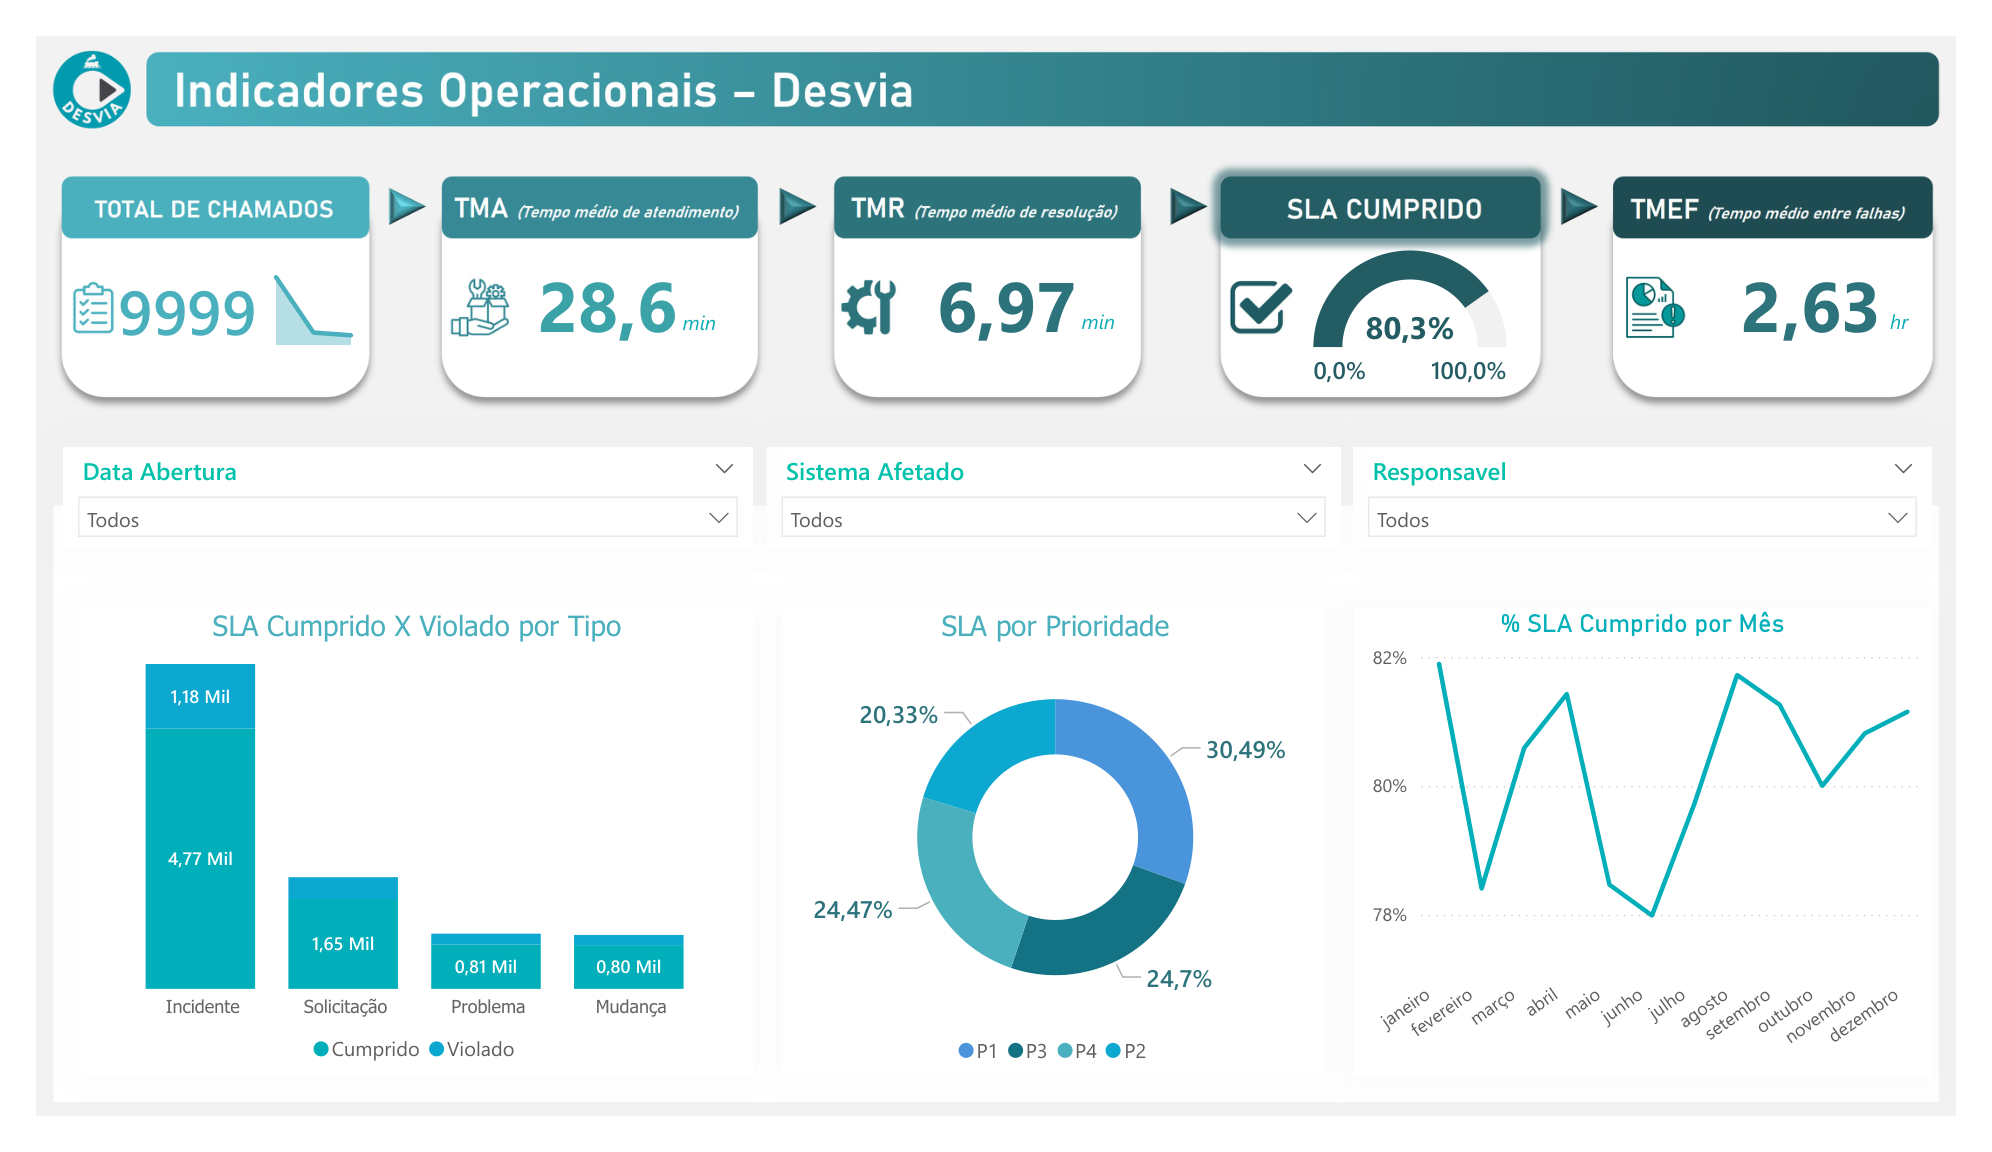

This screenshot's page, from the dashboard's own definition file:
{"tool":"powerbi","page":{"name":"SLA","canvas":[1280,720],"ordinal":5},"visuals":[{"type":"card","fields":{"Values":["BaseDados.Total de Chamados"]},"box":[42.7,155.2,116.4,55.6],"z":0},{"type":"stackedAreaChart","fields":{"Y":["CountNonNull(BaseDados.ID Chamado)"],"Category":["BaseDados.Data Abertura.Variation.Hierarquia de datas.Ano"]},"box":[144.8,134.5,80.2,76.3],"z":1000},{"type":"card","fields":{"Values":["BaseDados.Tempo Médio de Resolução h (TMR)"]},"box":[552.2,128,190.1,99.6],"z":2000},{"type":"card","fields":{"Values":["BaseDados.TMA - Tempo Médio Atendimento (H)"]},"box":[284.5,134.5,192.7,87.9],"z":3000},{"type":"gauge","fields":{"Y":["BaseDados.% SLA Cumprido"]},"box":[813.4,138.4,205.6,106],"z":4000},{"type":"shape","box":[18.1,95.3,197.9,38.6],"z":5000},{"type":"shape","box":[269,95.3,197.9,38.6],"z":6000},{"type":"shape","box":[540.5,95.3,197.9,38.6],"z":7000},{"type":"shape","box":[1050.8,95.3,197.9,38.6],"z":8000},{"type":"card","fields":{"Values":["BaseDados.TMEF (h)"]},"box":[1088.5,127.9,190.3,99.6],"z":9000},{"type":"columnChart","title":"SLA Cumprido X Violado por Tipo","fields":{"Series":["BaseDados.SLA Status"],"Category":["BaseDados.Tipo"],"Y":["CountNonNull(BaseDados.ID Chamado)"]},"box":[30.2,381.2,447.6,312.5],"z":10000},{"type":"slicer","fields":{"Values":["BaseDados.Responsavel"]},"box":[878.3,273.9,386.1,67.6],"z":11000},{"type":"slicer","fields":{"Values":["BaseDados.Sistema Afetado"]},"box":[487.4,273.9,382.4,67.6],"z":12000},{"type":"slicer","fields":{"Values":["BaseDados.Data Abertura"]},"box":[18.1,273.9,459.7,67.6],"z":13000},{"type":"donutChart","title":"SLA por Prioridade","fields":{"Category":["BaseDados.Prioridade"],"Y":["BaseDados.% SLA Cumprido"]},"box":[498.3,381.2,363.1,313.7],"z":14000},{"type":"lineChart","fields":{"Category":["BaseDados.Data Abertura.Variation.Hierarquia de datas.Mês"],"Y":["BaseDados.% SLA Cumprido"]},"box":[878,381,386,314],"z":15000},{"type":"textbox","box":[425.9,177.3,63.9,35],"z":15001},{"type":"textbox","box":[692.5,176.1,63.9,35],"z":15002},{"type":"textbox","box":[1230.5,176.1,49.5,35],"z":15003}]}

Visuals, with their boxes in screenshot pixels (x1, y1, x2, y2), scaled from the page's 1280x720 canvas onto the 1992x1152 screenshot:
card - BaseDados.Total de Chamados: [left=66, top=248, right=248, bottom=337]
stackedAreaChart - CountNonNull(BaseDados.ID Chamado) x BaseDados.Data Abertura.Variation.Hierarquia de datas.Ano: [left=225, top=215, right=350, bottom=337]
card - BaseDados.Tempo Médio de Resolução h (TMR): [left=859, top=205, right=1155, bottom=364]
card - BaseDados.TMA - Tempo Médio Atendimento (H): [left=443, top=215, right=743, bottom=356]
gauge - BaseDados.% SLA Cumprido: [left=1266, top=221, right=1586, bottom=391]
shape: [left=28, top=152, right=336, bottom=214]
shape: [left=419, top=152, right=727, bottom=214]
shape: [left=841, top=152, right=1149, bottom=214]
shape: [left=1635, top=152, right=1943, bottom=214]
card - BaseDados.TMEF (h): [left=1694, top=205, right=1990, bottom=364]
"SLA Cumprido X Violado por Tipo" columnChart: [left=47, top=610, right=744, bottom=1110]
slicer - BaseDados.Responsavel: [left=1367, top=438, right=1968, bottom=546]
slicer - BaseDados.Sistema Afetado: [left=759, top=438, right=1354, bottom=546]
slicer - BaseDados.Data Abertura: [left=28, top=438, right=744, bottom=546]
"SLA por Prioridade" donutChart: [left=775, top=610, right=1341, bottom=1112]
lineChart - BaseDados.Data Abertura.Variation.Hierarquia de datas.Mês x BaseDados.% SLA Cumprido: [left=1366, top=610, right=1967, bottom=1112]
textbox: [left=663, top=284, right=762, bottom=340]
textbox: [left=1078, top=282, right=1177, bottom=338]
textbox: [left=1915, top=282, right=1991, bottom=338]
